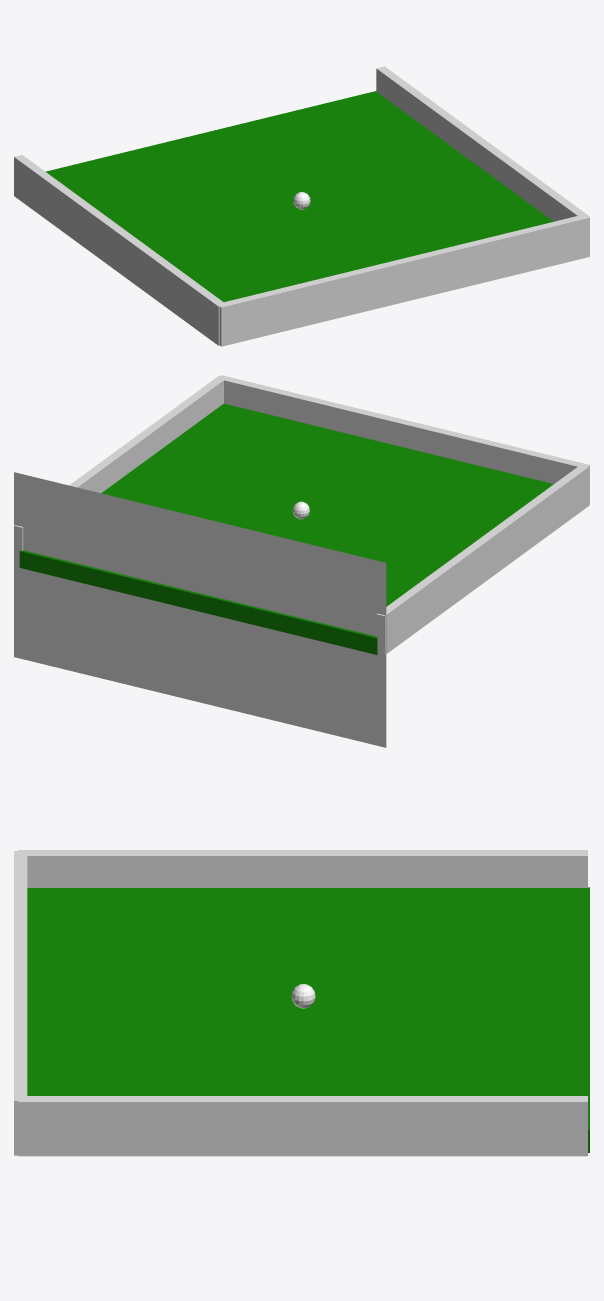
File: start.glb
The picture shows the model from 3 angles, top to bottom: view 1: azimuth 30°, elevation 25°; view 2: azimuth 150°, elevation 25°; view 3: azimuth 270°, elevation 25°; orthographic projection. The views are drawn at different scales.
Parts seen in each view (by area): view 1: Cube, Cube.003, Cube.001, Cube.002; view 2: obj_snap.001, Cube, Cube.001, Cube.003, Cube.002; view 3: Cube, Cube.002, Cube.001, Cube.003.
Boxes of the visible parts, x1,y1,x2,y2 form: Cube: (46, 91, 553, 301); Cube.003: (217, 214, 589, 346); Cube.001: (14, 155, 223, 345); Cube.002: (376, 66, 589, 221); obj_snap.001: (14, 472, 386, 747); Cube: (19, 403, 553, 654); Cube.001: (376, 465, 589, 655); Cube.003: (217, 375, 589, 503); Cube.002: (14, 376, 226, 566); Cube: (27, 887, 589, 1152); Cube.002: (18, 1096, 587, 1156); Cube.001: (18, 850, 587, 887); Cube.003: (14, 851, 27, 1155).
Size of the model in its own units: 4.21 by 2 by 4.06.
